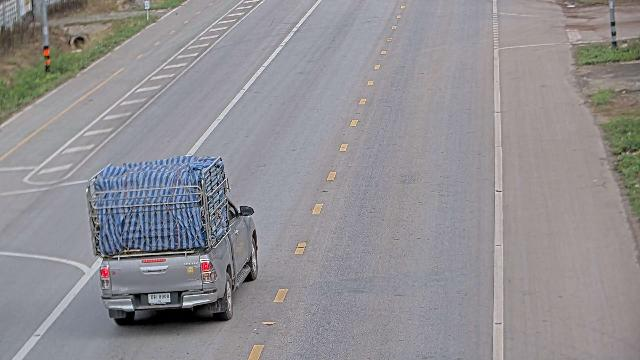pickup-truck: (84, 154, 259, 324)
